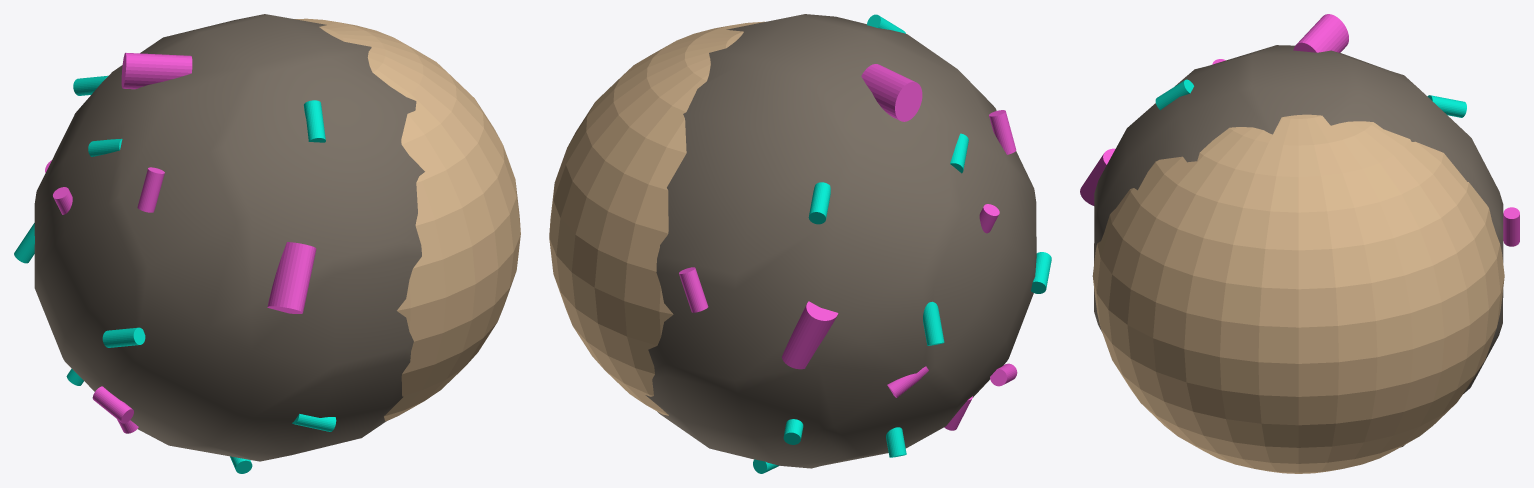
File: Enemy1.fbx
3 renders of one model, left to right at view 1: azimuth 30°, elevation 25°; view 2: azimuth 150°, elevation 25°; view 3: azimuth 270°, elevation 25°, orthographic. The views are drawn at different scales.
Visible parts, largest first — view 1: Mball, Sphere, Cylinder.012, Cylinder.011, Cylinder.010, Cylinder.004, Cylinder.019, Cylinder.007, Cylinder.018; view 2: Mball, Sphere, Cylinder.011, Cylinder, Cylinder.013, Cylinder.014, Cylinder.010, Cylinder.005, Cylinder.007; view 3: Sphere, Mball, Cylinder.011, Cylinder.012, Cylinder.013, Cylinder.019, Cylinder.014.
Part boxes in pixels (x1,y1,x2,y2): Mball: (34, 14, 424, 461); Sphere: (294, 18, 520, 421); Cylinder.012: (267, 242, 316, 313); Cylinder.011: (121, 52, 192, 89); Cylinder.010: (137, 167, 164, 212); Cylinder.004: (92, 386, 133, 423); Cylinder.019: (303, 100, 325, 142); Cylinder.007: (102, 327, 145, 347); Cylinder.018: (292, 414, 336, 431); Mball: (645, 14, 1036, 468); Sphere: (549, 21, 764, 415); Cylinder.011: (861, 64, 922, 121); Cylinder: (782, 301, 838, 369); Cylinder.013: (679, 267, 708, 312); Cylinder.014: (808, 182, 830, 224); Cylinder.010: (989, 110, 1016, 154); Cylinder.005: (923, 301, 944, 345); Cylinder.007: (1031, 252, 1051, 293); Sphere: (1092, 114, 1504, 473); Mball: (1094, 45, 1503, 447); Cylinder.011: (1293, 14, 1348, 52); Cylinder.012: (1080, 148, 1115, 205); Cylinder.013: (1503, 207, 1519, 246); Cylinder.019: (1155, 79, 1193, 110); Cylinder.014: (1427, 95, 1466, 117).
Size of the model in its own units: 284 by 262 by 267.
